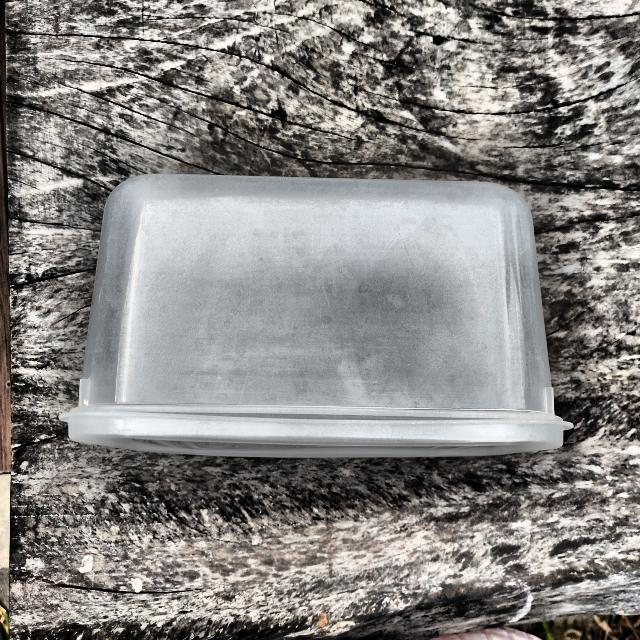plastic container: (69, 142, 586, 500)
